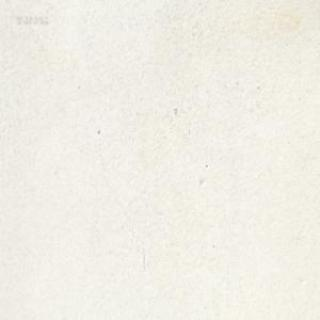Washertrack_idkeyframe: (172, 106, 176, 113)
